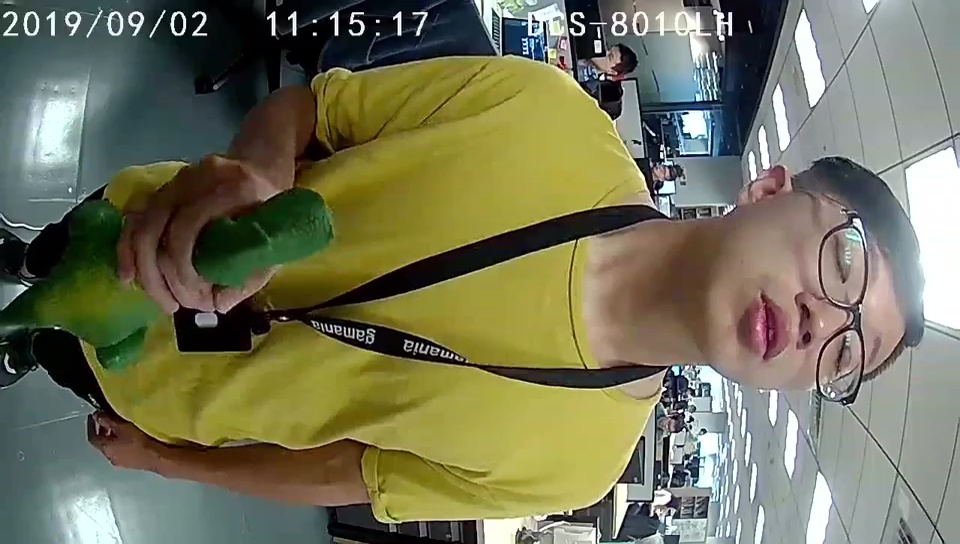rex: (64, 186, 336, 374)
